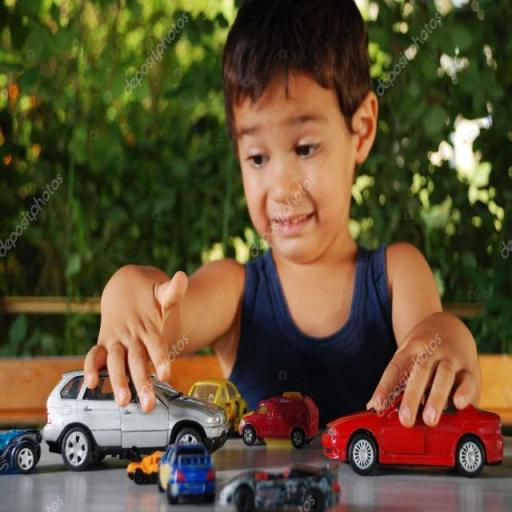baby: (85, 0, 479, 426)
